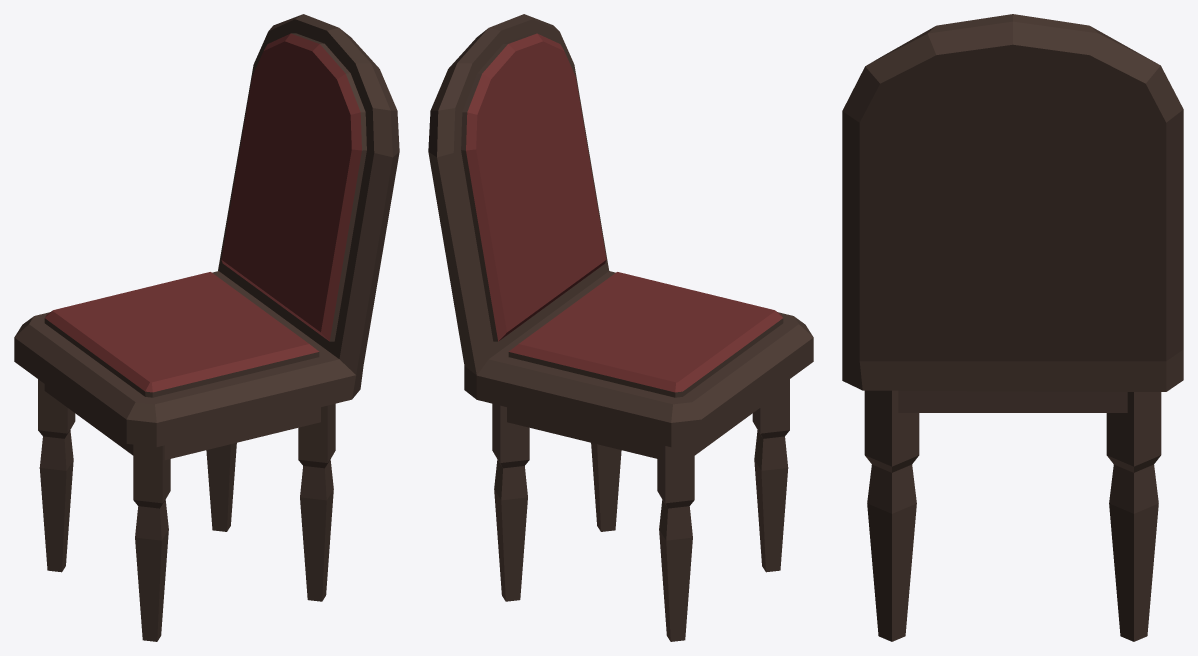
Rendered from LPHorror_Chair.fbx.
3 renders of one model, left to right at view 1: azimuth 30°, elevation 25°; view 2: azimuth 150°, elevation 25°; view 3: azimuth 270°, elevation 25°, orthographic. The views are drawn at different scales.
Parts seen in each view (by area): view 1: Chair; view 2: Chair; view 3: Chair.
Part boxes in pixels (x1,y1,x2,y2): Chair: (14, 14, 399, 641); Chair: (428, 14, 813, 641); Chair: (842, 14, 1183, 641).
Bounding box in the file's own units: 78.79 × 139 × 65.33.
